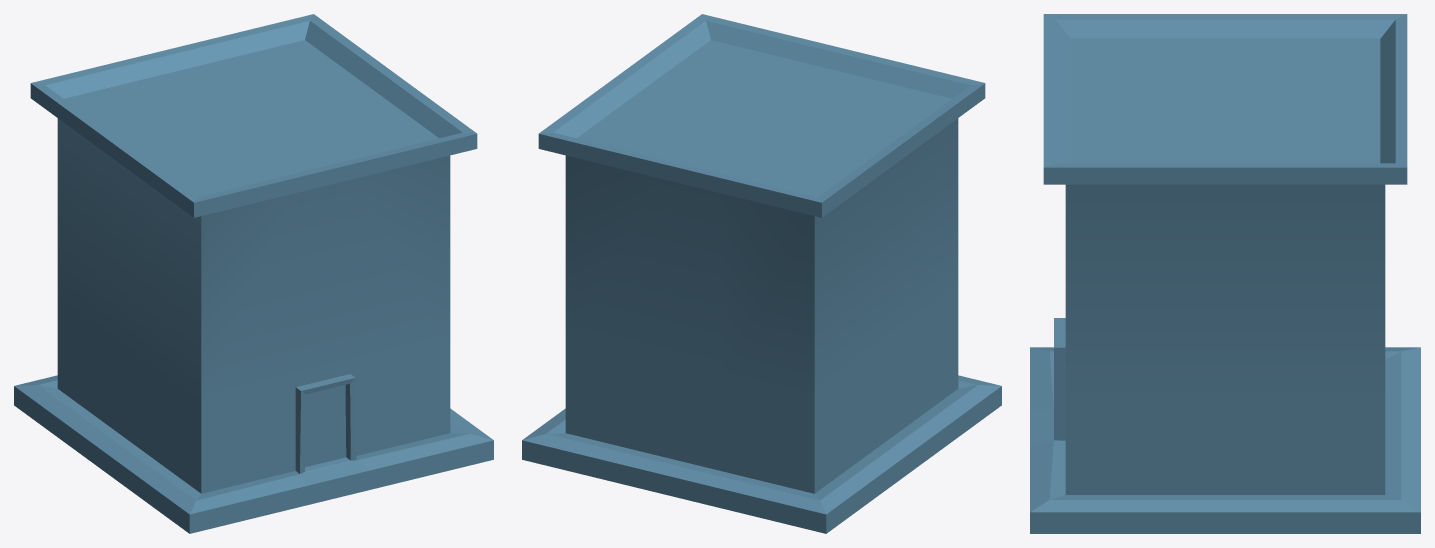
Rendered from Building3.fbx.
3 renders of one model, left to right at view 1: azimuth 30°, elevation 25°; view 2: azimuth 150°, elevation 25°; view 3: azimuth 270°, elevation 25°, orthographic. The views are drawn at different scales.
Parts seen in each view (by area): view 1: Building3; view 2: Building3; view 3: Building3.
Part boxes in pixels (left/top/right/bottom): Building3: left=14, top=14, right=493, bottom=533; Building3: left=522, top=14, right=1001, bottom=533; Building3: left=1030, top=14, right=1420, bottom=533.
Size of the model in its own units: 5.57 by 5.67 by 5.57.
